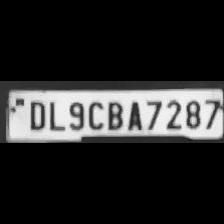2: (160, 97, 182, 130)
7: (202, 96, 222, 130), (142, 97, 162, 130)
8: (182, 97, 202, 130)
9: (64, 98, 84, 130)
A: (124, 98, 144, 130)
B: (104, 98, 124, 130)
C: (86, 98, 104, 130)
D: (24, 98, 46, 132)
L: (45, 98, 63, 132)
